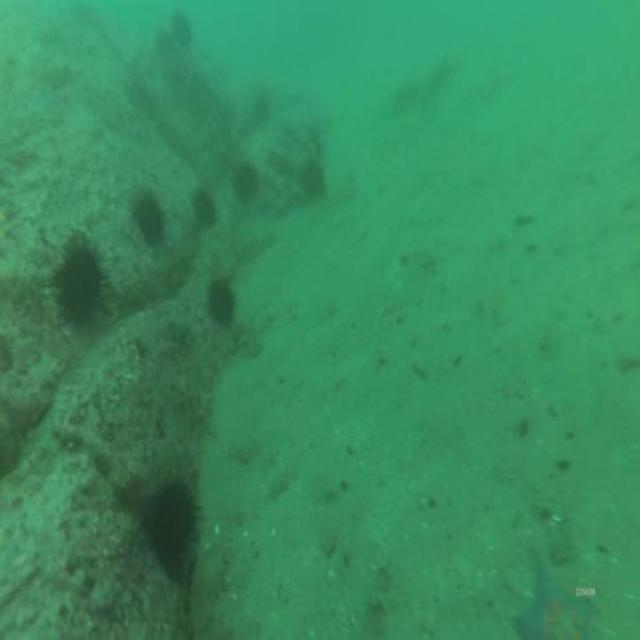echinus: (151, 485, 197, 566), (57, 251, 103, 318), (134, 199, 163, 239), (300, 158, 326, 198), (210, 280, 234, 322), (192, 188, 219, 224), (236, 165, 256, 198)
starfish: (513, 565, 587, 640)
